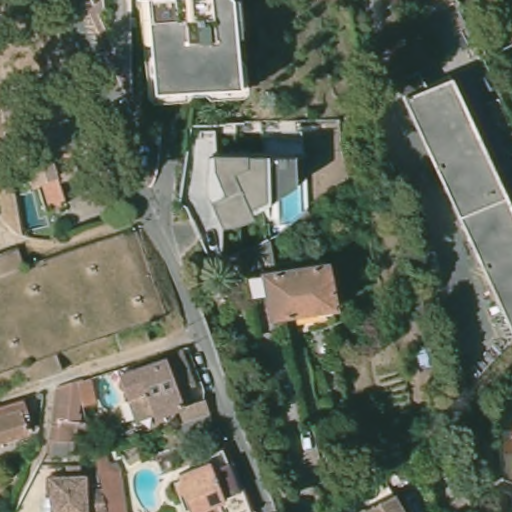pool: (269, 179, 308, 230), (128, 466, 168, 512), (14, 186, 52, 233), (89, 369, 127, 413)
